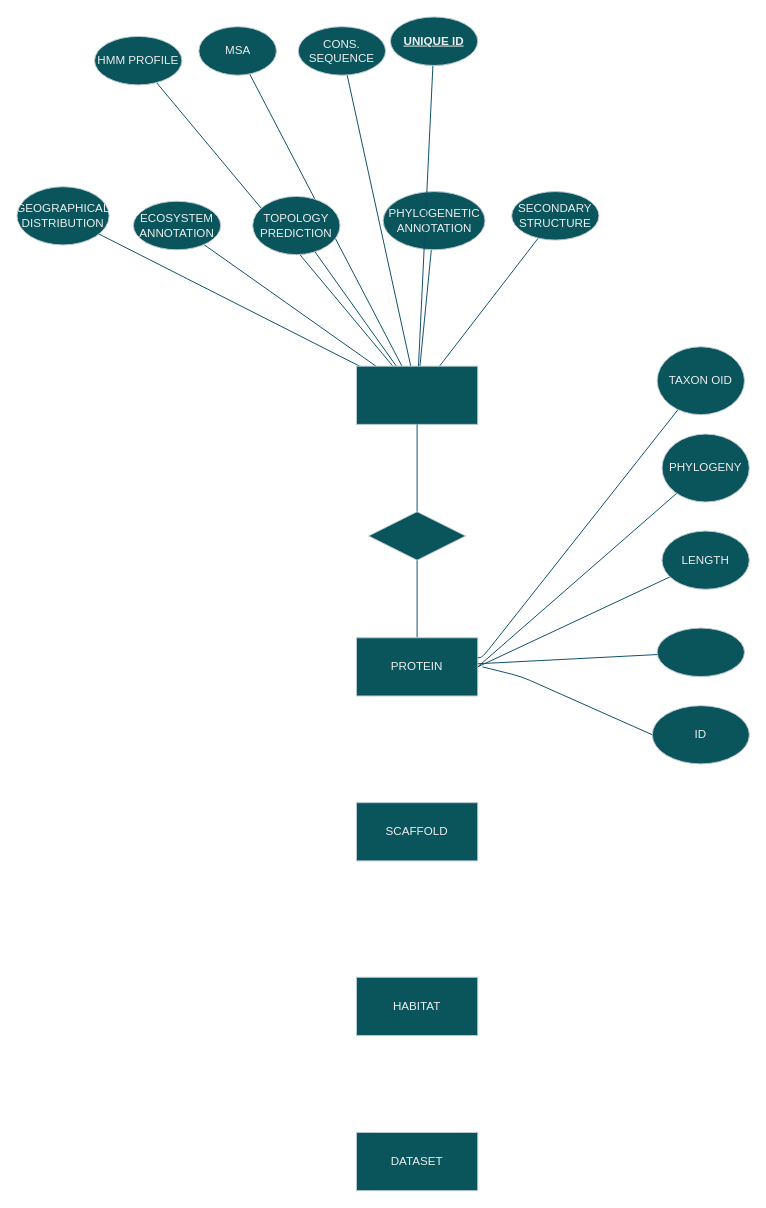
This 766x1208 diagram has some shape labels left out. Each missing label, with the centre of its shape:
BELONGS: the point at 417,535
NMPF: the point at 417,394
SEQUENCE: the point at 700,652
